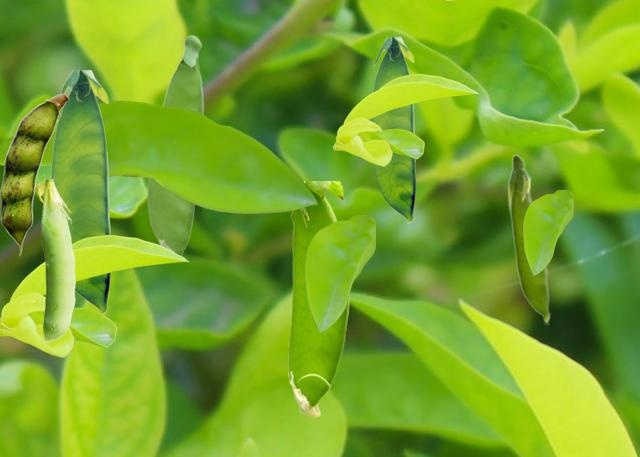pea: (50, 70, 109, 313), (288, 181, 348, 416), (147, 34, 203, 255), (0, 93, 68, 255), (372, 37, 414, 222), (507, 153, 550, 324), (34, 174, 74, 341)
